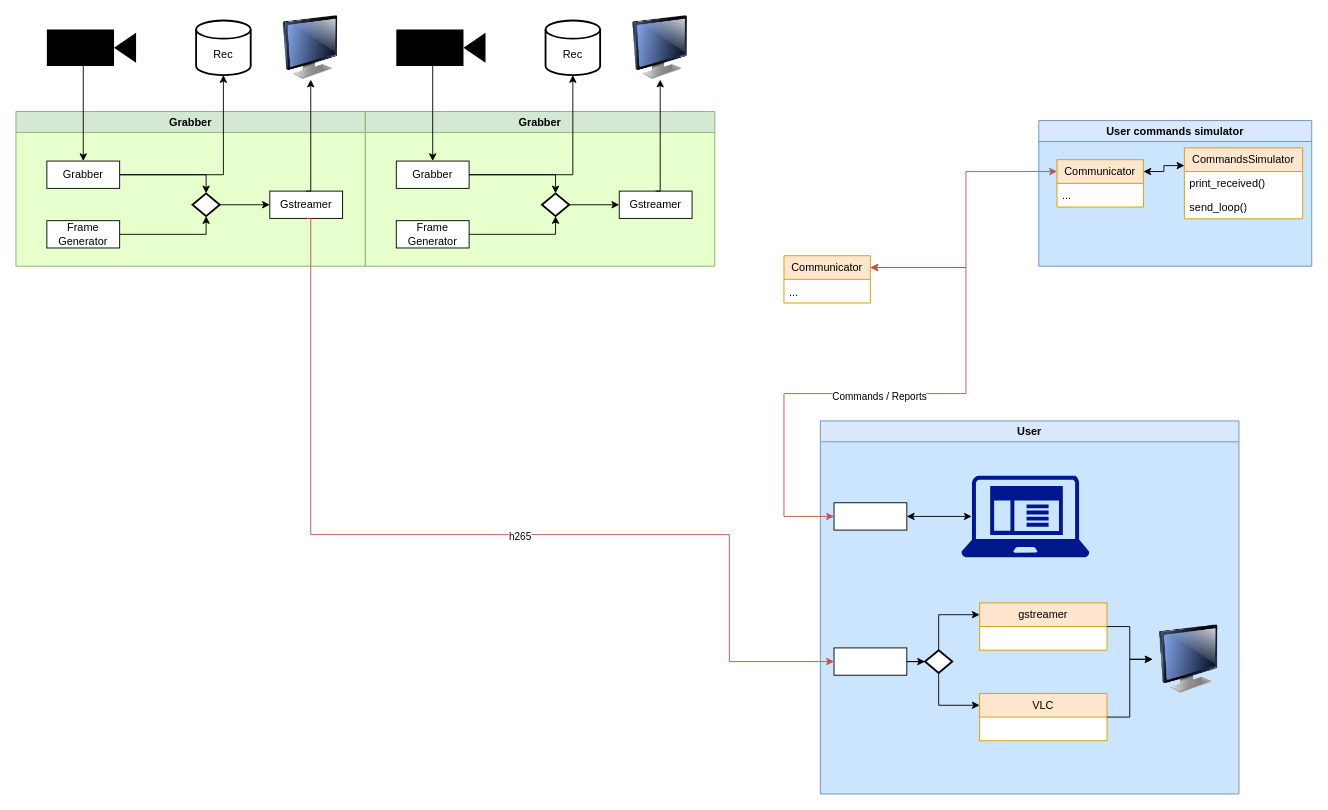
Image size: 1328x810. Some labels were removed from this diagram. Here are the shapes that lost their labels. From the top down, the centre of each, then its label:
At point 870,516: "udp socket (Messages)".
At point 870,661: "udp socket (Video)".
